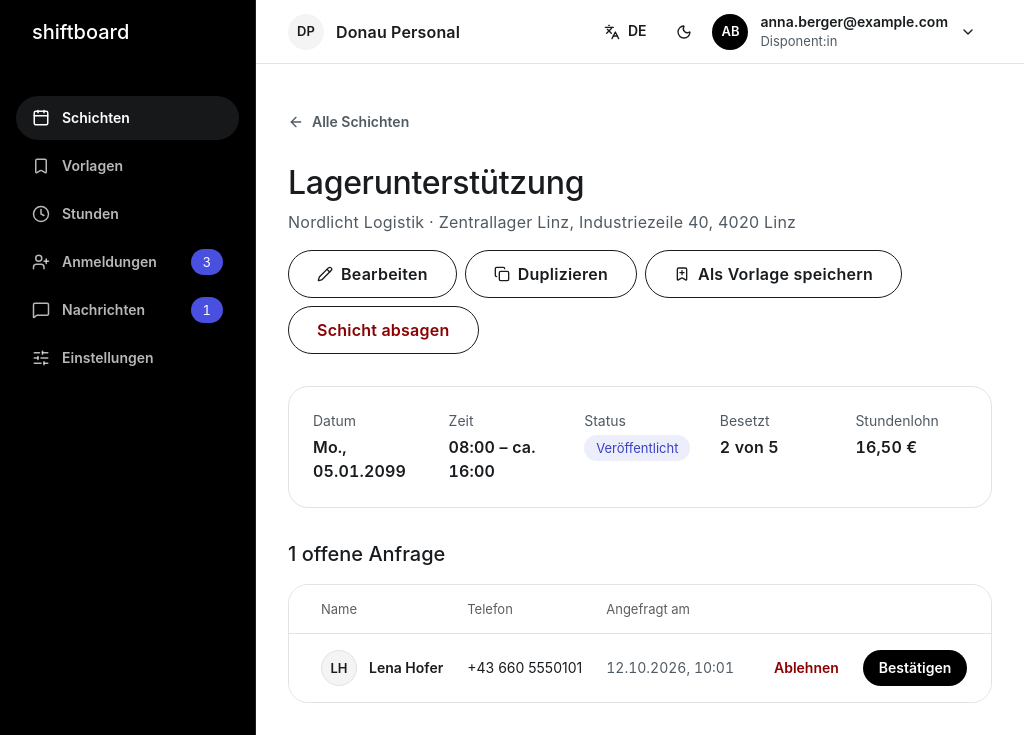
Test: shift detail › cancels the whole shift after a confirmation
Click the button "Schicht absagen" at (383, 330), box [288,306,478,354]
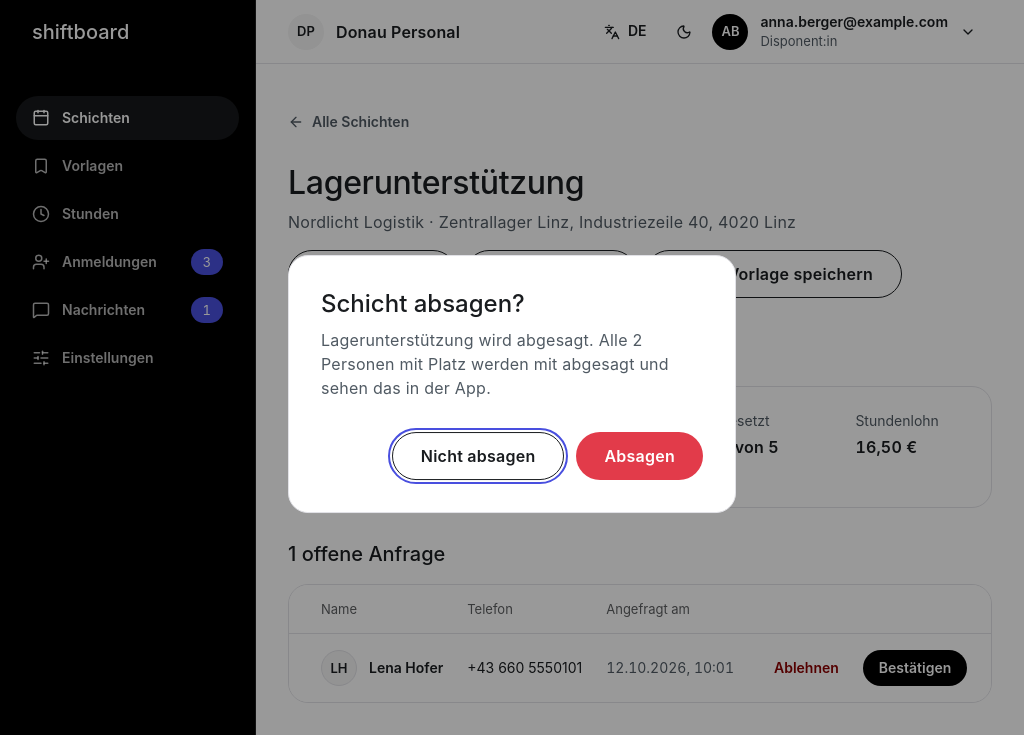
Check: the text "Alle 2 Personen mit Platz werden mit abgesagt" is shown, box [321,330,669,398]
Click the button "Absagen" at (640, 456), box [576,432,703,480]
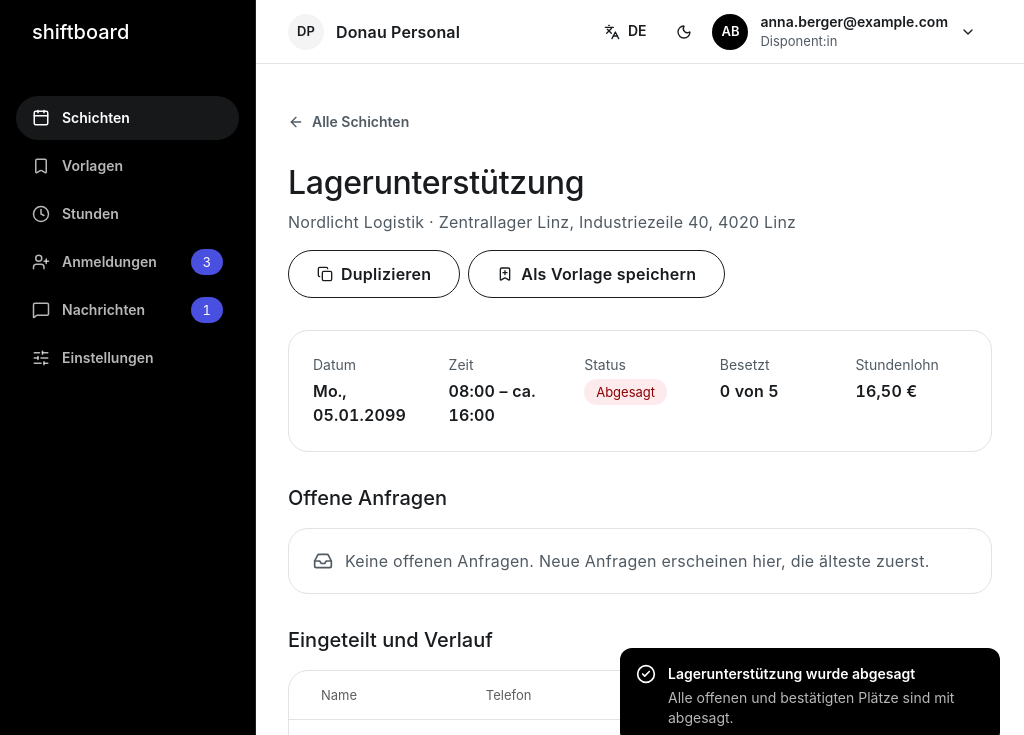
Check: the text "Lagerunterstützung wurde abgesagt" is shown, box [668,665,915,682]
Check: the button "Schicht absagen" is gone
Check: the text "Abgesagt" is shown, box [584,379,667,405]
